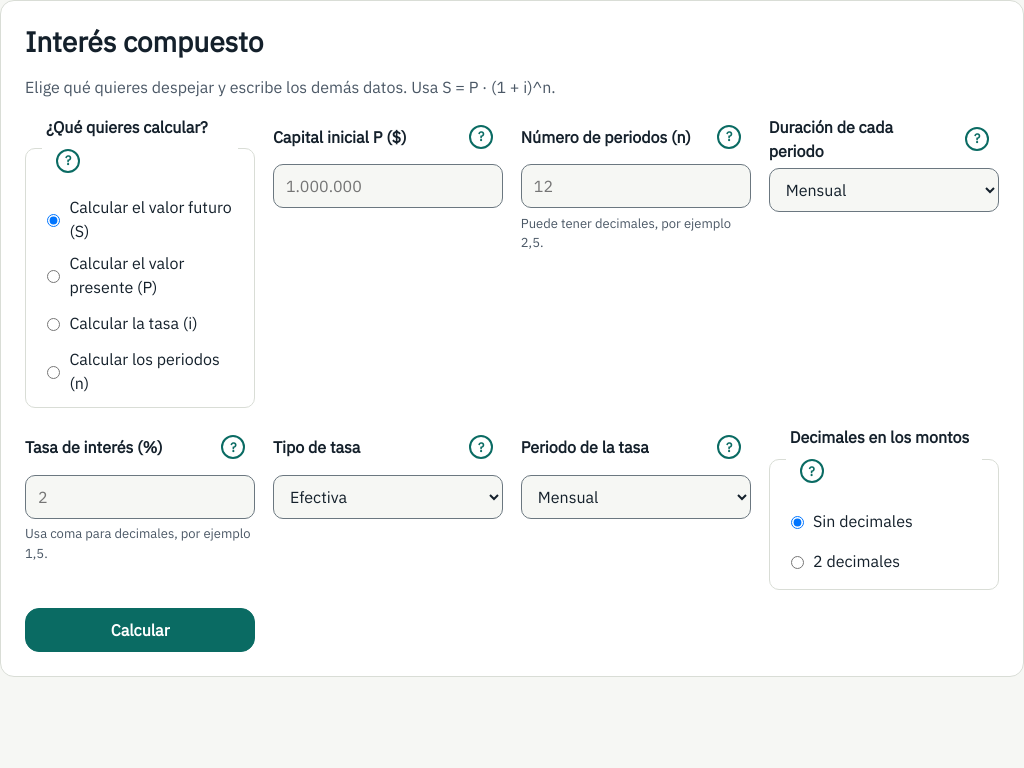
Scenario: HU-18: interés compuesto › sin datos muestra los errores y no calcula
Click the button "Calcular" at (140, 630), box [25,608,255,652]
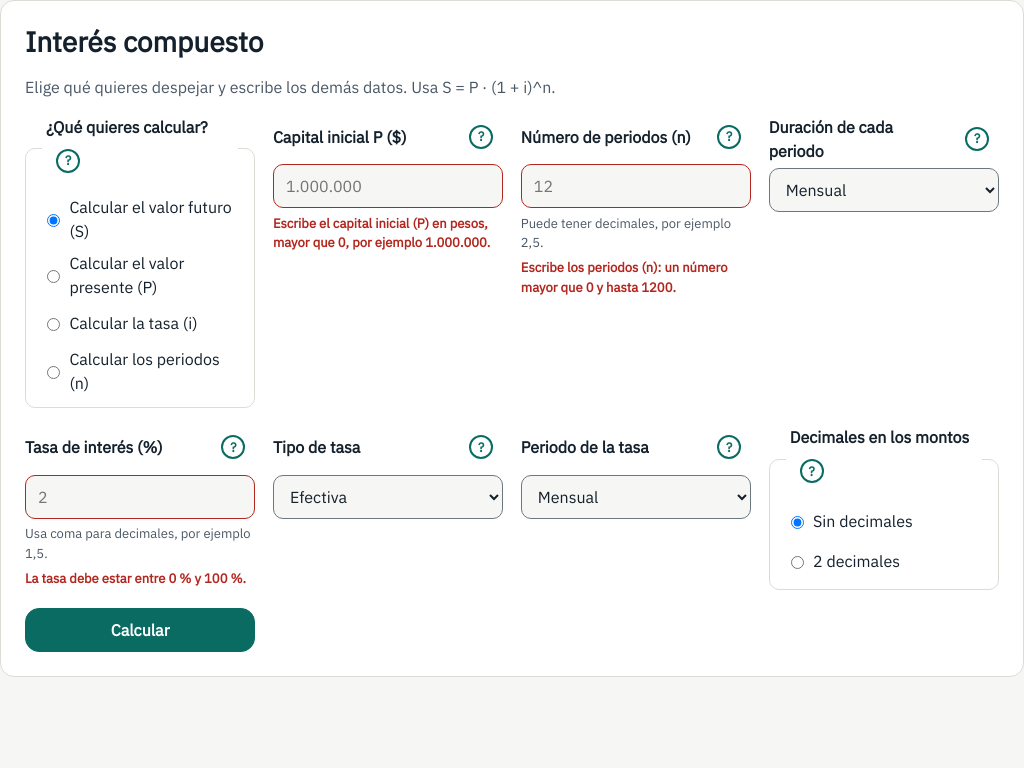
Check: the text "Escribe el capital inicial" is shown, box [273,215,490,251]
Check: the text "Escribe los periodos" is shown, box [521,259,728,296]
Check: the text "La tasa debe estar entre 0 % y 100 %." is shown, box [25,569,255,588]
